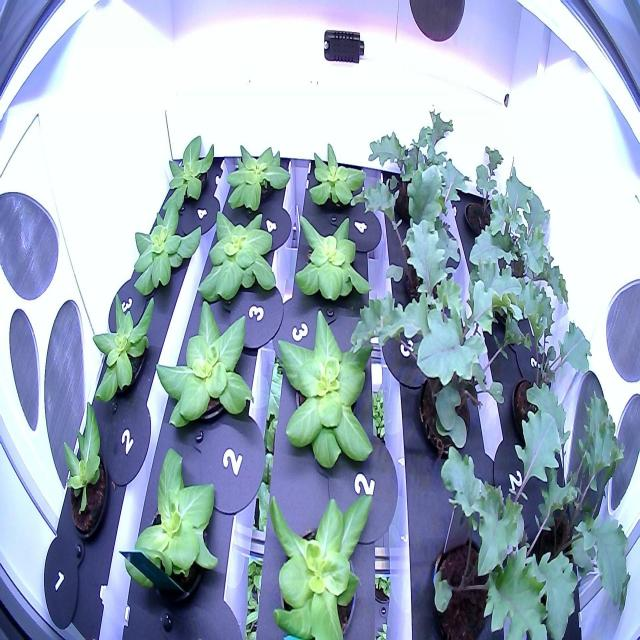young: (268, 301, 392, 479), (259, 481, 382, 638), (118, 439, 235, 603), (151, 293, 264, 439), (84, 277, 166, 411), (285, 198, 372, 314), (121, 192, 209, 306), (193, 202, 282, 314), (56, 399, 112, 558), (149, 119, 221, 220), (217, 130, 293, 218), (303, 130, 369, 219)
